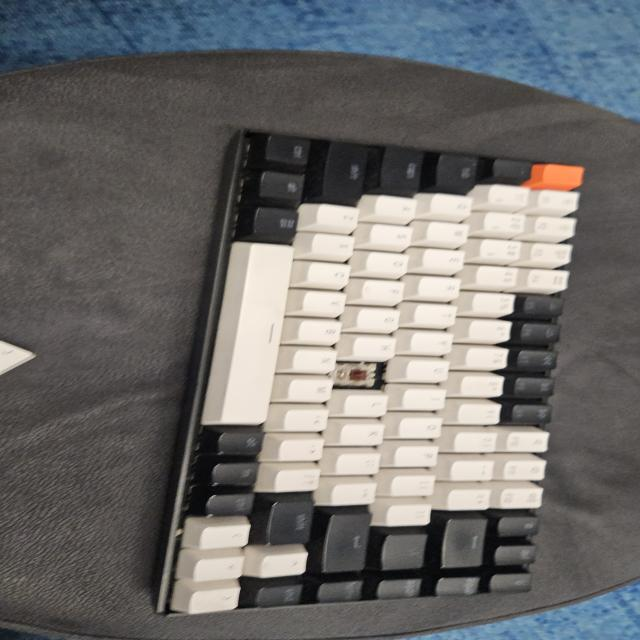C: (338, 362, 381, 387)
